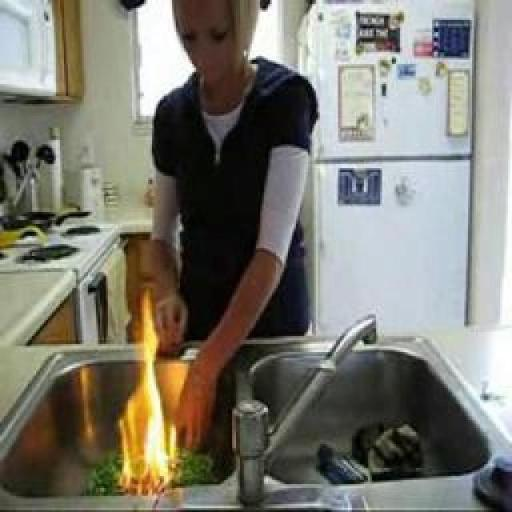smoke: (118, 298, 174, 486)
